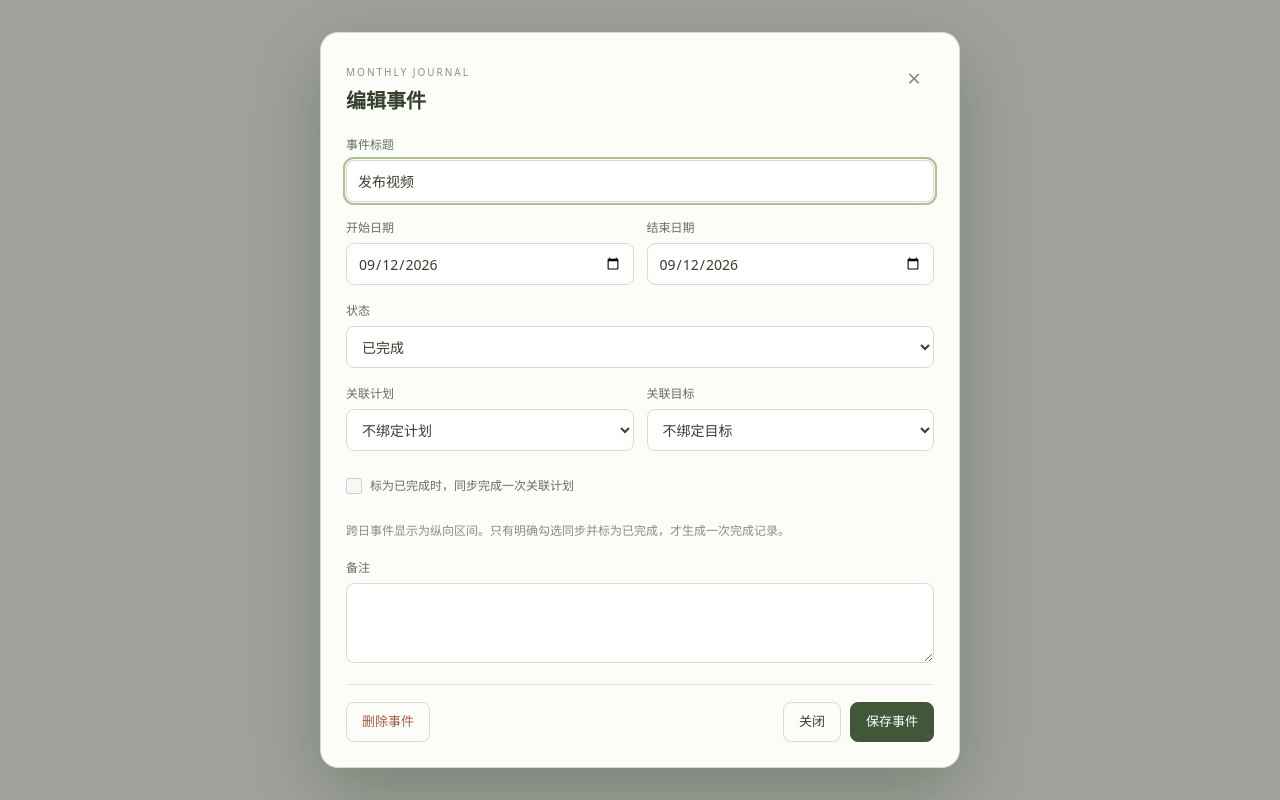
Scenario: allows editing a retained event after its linked plan was deleted
expect the checkbox named "同步计划完成" is not checked: met, box [346,478,362,494]
Replace the text in the field labelled "事件标题" with "保留的事件" at (640, 181), box [346,160,934,202]
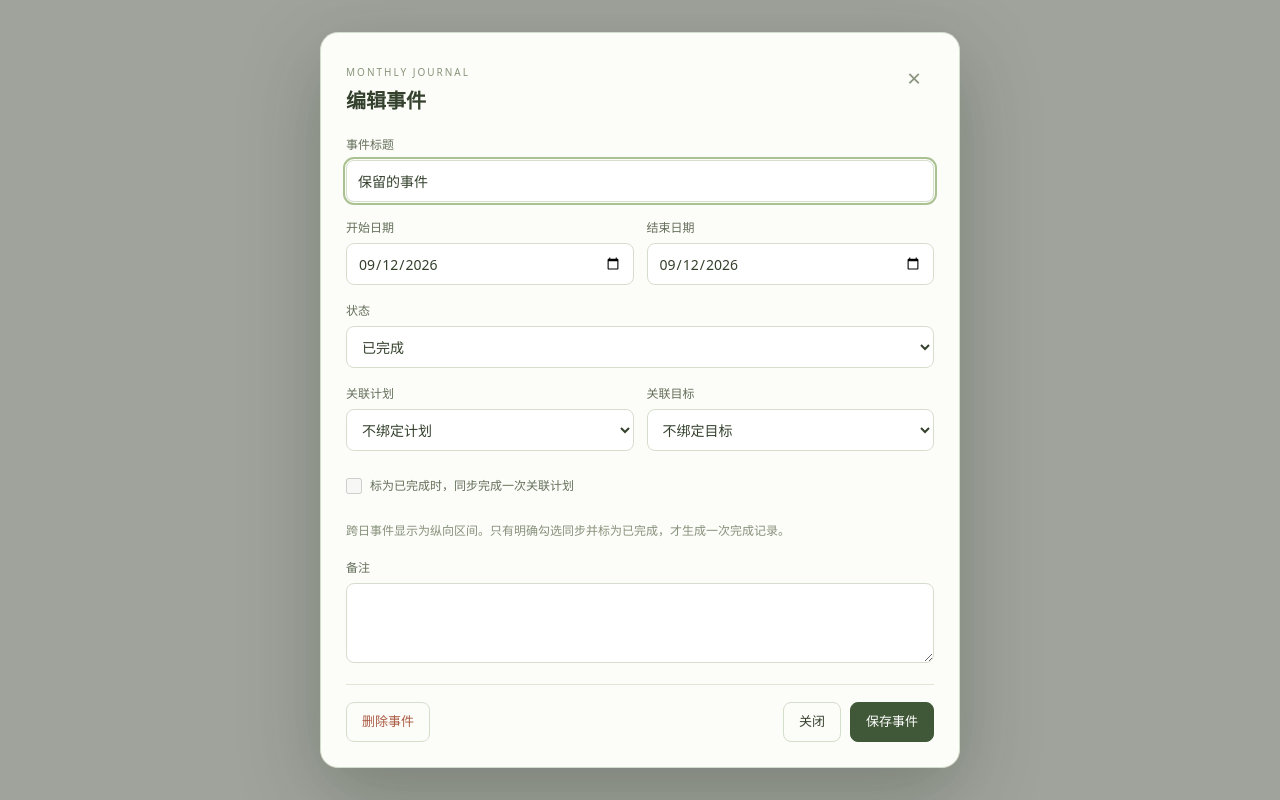
Click the button "保存事件" at (892, 722), box [850,702,934,742]
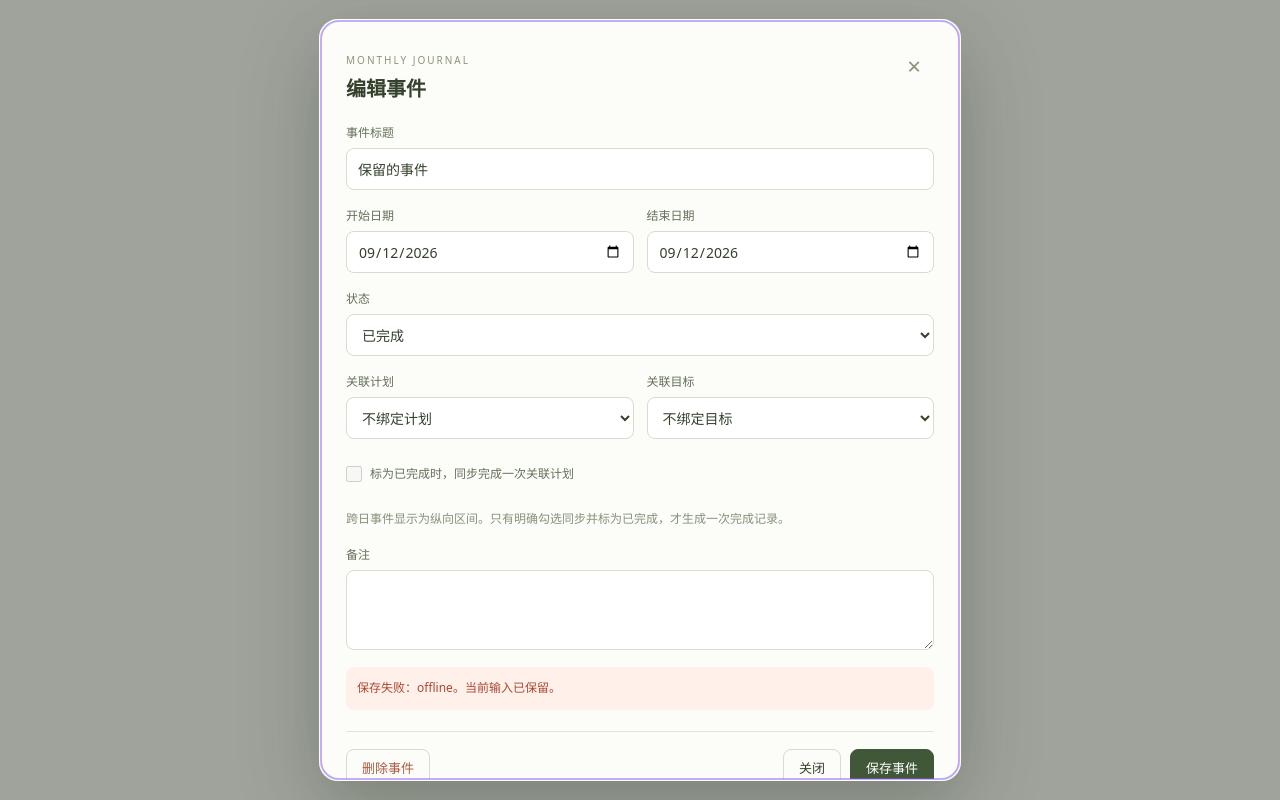
expect the message "保存失败：offline。当前输入已保留。" is shown: met, box [346,667,934,710]
